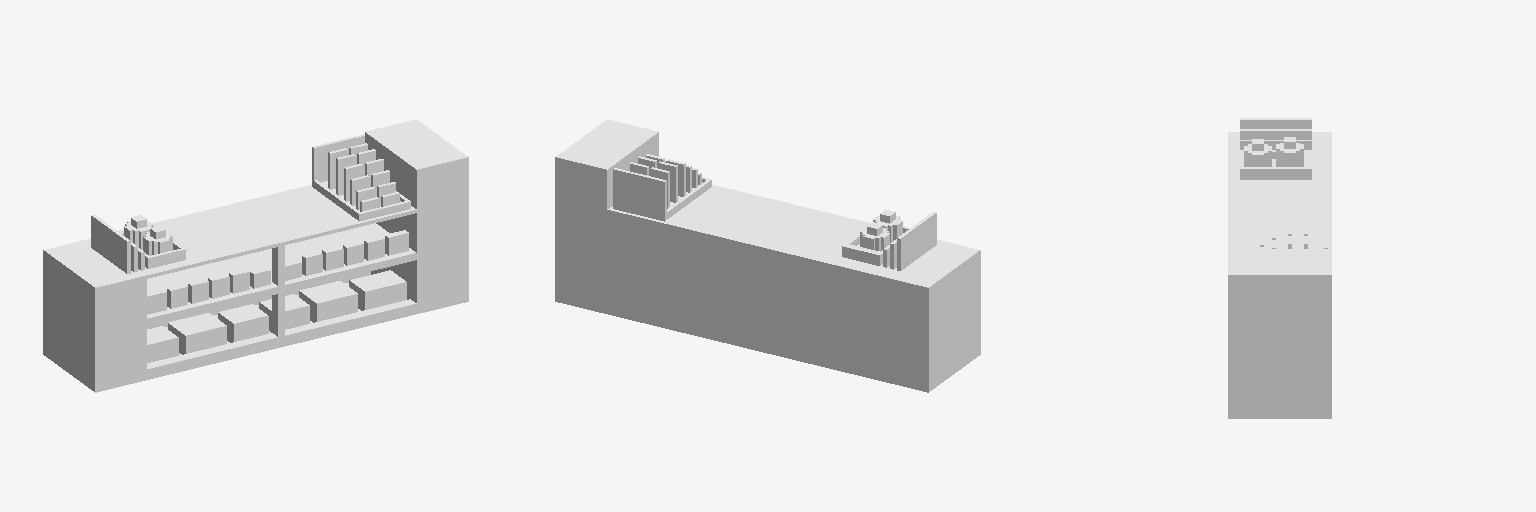
Rendered from mostrador.obj.
3 renders of one model, left to right at view 1: azimuth 30°, elevation 25°; view 2: azimuth 150°, elevation 25°; view 3: azimuth 270°, elevation 25°, orthographic.
Visible parts, largest first — view 1: object 1; view 2: object 1; view 3: object 1.
Part boxes in pixels (left/top/right/bottom): object 1: left=43, top=119, right=468, bottom=392; object 1: left=555, top=119, right=980, bottom=392; object 1: left=1228, top=118, right=1331, bottom=418.
Size of the model in its own units: 10.8 by 4 by 2.6.